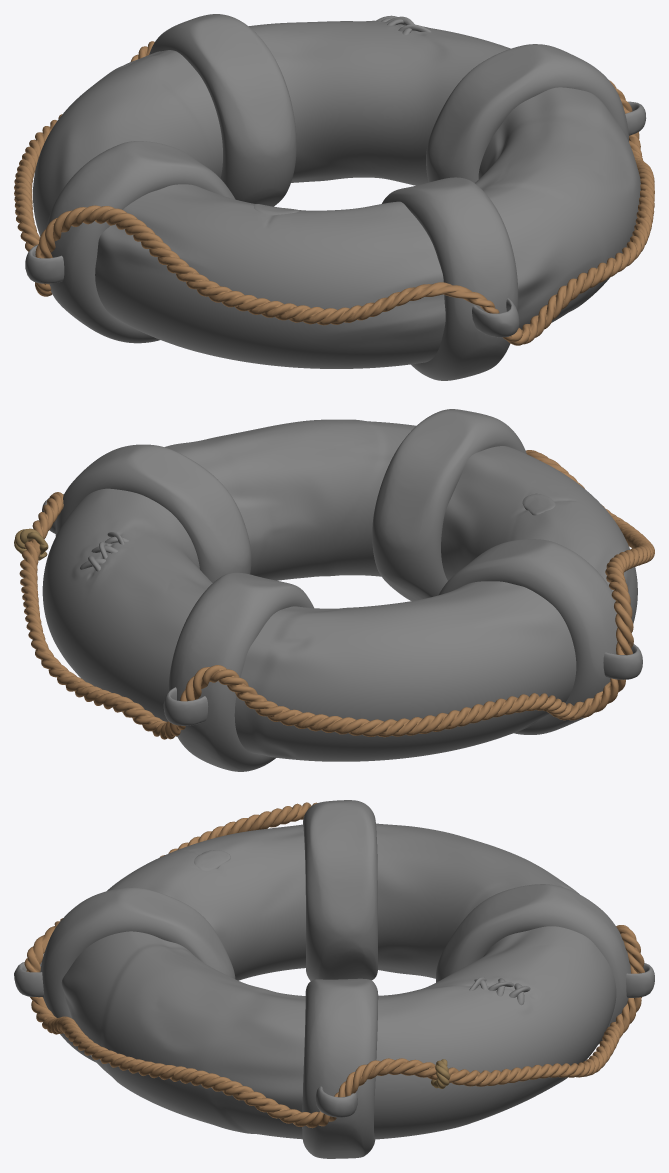
Rendered from Lifebuoy.fbx.
The picture shows the model from 3 angles, top to bottom: view 1: azimuth 30°, elevation 25°; view 2: azimuth 150°, elevation 25°; view 3: azimuth 270°, elevation 25°; orthographic projection. The views are drawn at different scales.
Visible parts, largest first — view 1: LifebuoyDecimated, white_things, rope, details_orange; view 2: LifebuoyDecimated, white_things, rope, details_orange, shov; view 3: LifebuoyDecimated, white_things, rope, details_orange, shov, plaster.
Part boxes in pixels (<box>): LifebuoyDecimated: <box>33,20,640,368</box>; white_things: <box>46,14,628,380</box>; rope: <box>14,41,654,345</box>; details_orange: <box>25,101,646,337</box>; LifebuoyDecimated: <box>42,419,637,761</box>; white_things: <box>55,409,617,771</box>; rope: <box>14,450,654,739</box>; details_orange: <box>42,494,642,725</box>; shov: <box>80,532,129,571</box>; LifebuoyDecimated: <box>61,823,616,1139</box>; white_things: <box>40,800,630,1158</box>; rope: <box>24,802,644,1128</box>; details_orange: <box>14,962,654,1117</box>; shov: <box>469,977,530,1005</box>; plaster: <box>194,850,230,870</box>.
Bounding box in the file's own units: 63.98 × 18.95 × 63.57.
